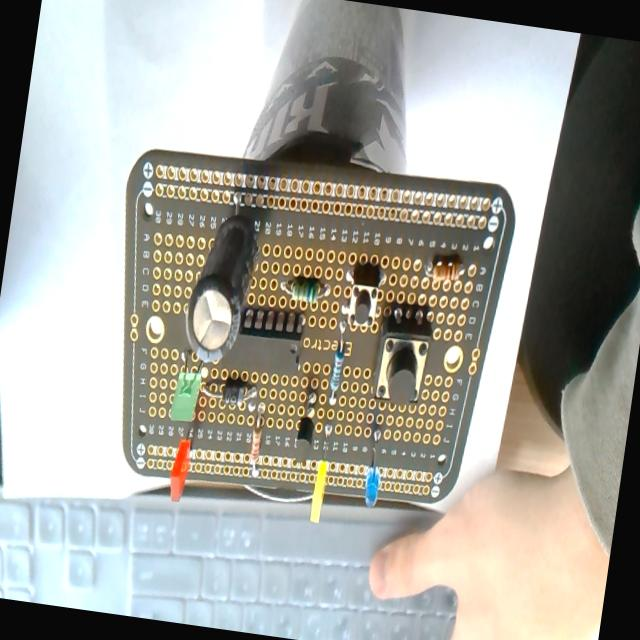Electrolytic capacitor: (181, 206, 264, 367)
IC: (179, 302, 307, 382)
diode: (202, 375, 256, 409)
led: (359, 409, 390, 511), (168, 354, 206, 426), (167, 416, 198, 502), (309, 423, 335, 524)
resistor: (279, 274, 331, 307), (246, 404, 268, 474), (424, 256, 466, 287), (328, 348, 346, 396)
switch: (370, 307, 435, 408), (342, 264, 384, 332)
transistor: (292, 388, 321, 466)
